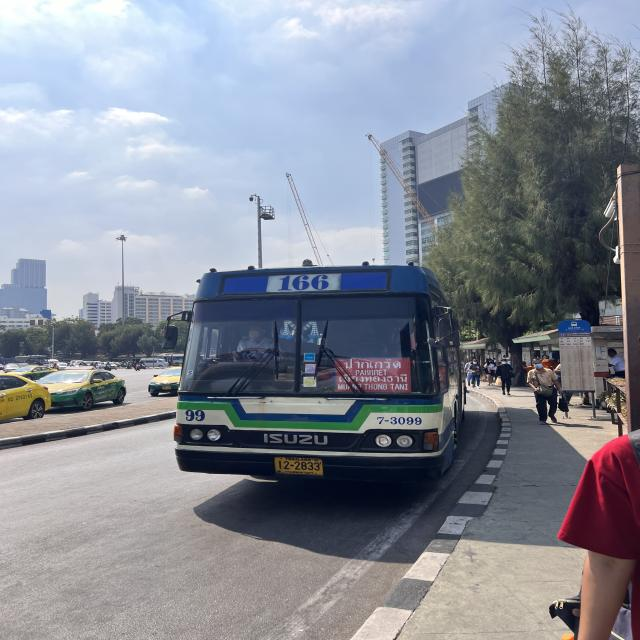BMTA-bus: (173, 264, 466, 486)
Bus Line Number: (270, 273, 342, 291)
Bus Side Number: (372, 411, 426, 432)
Destination Sign: (334, 356, 413, 393)
